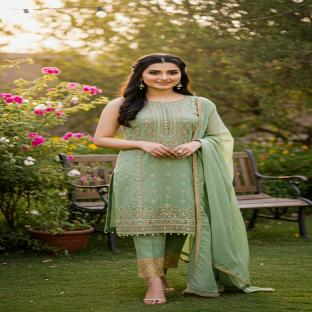Human: (94, 53, 274, 305)
